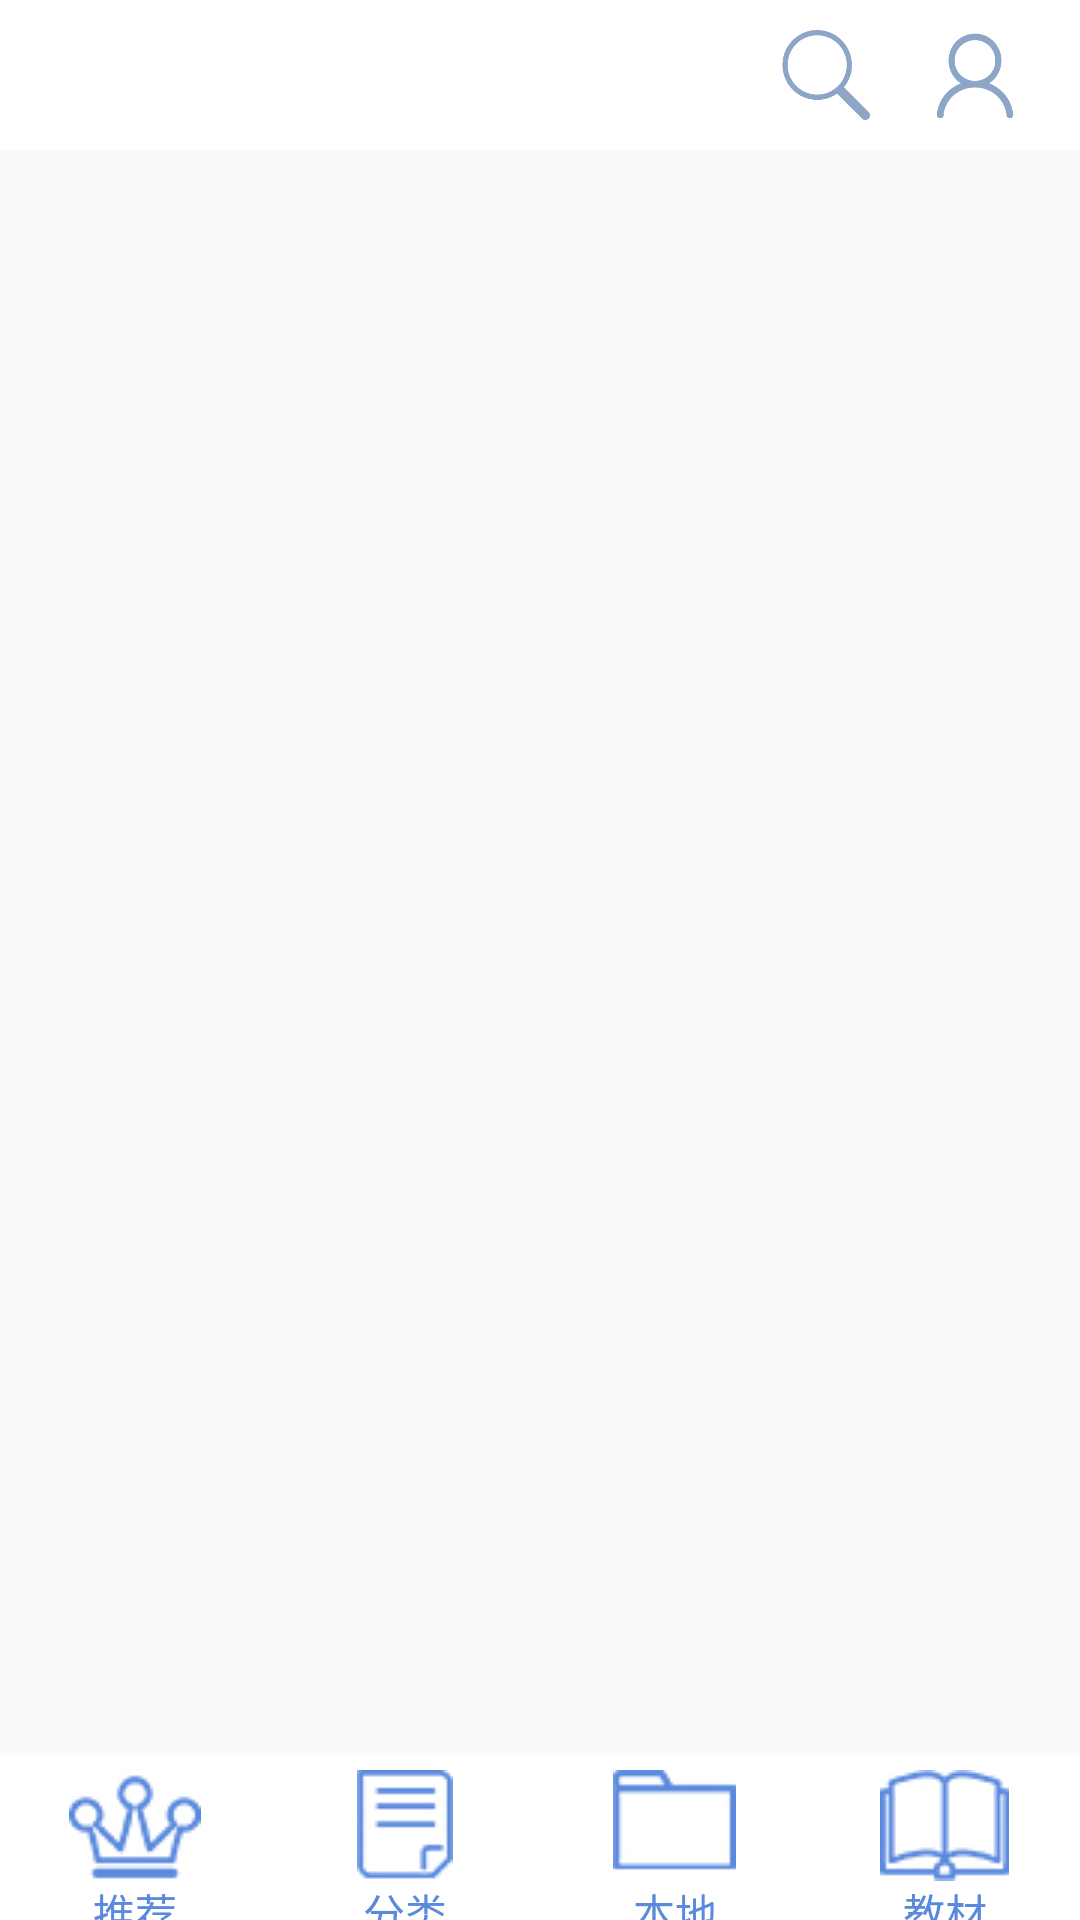

Screen size 1080×1920. Icon name, then its box in pixels as Rect(x1, y1, x2, y2):
sousuo: Rect(782, 30, 870, 120)
yonghu: Rect(937, 33, 1013, 118)
